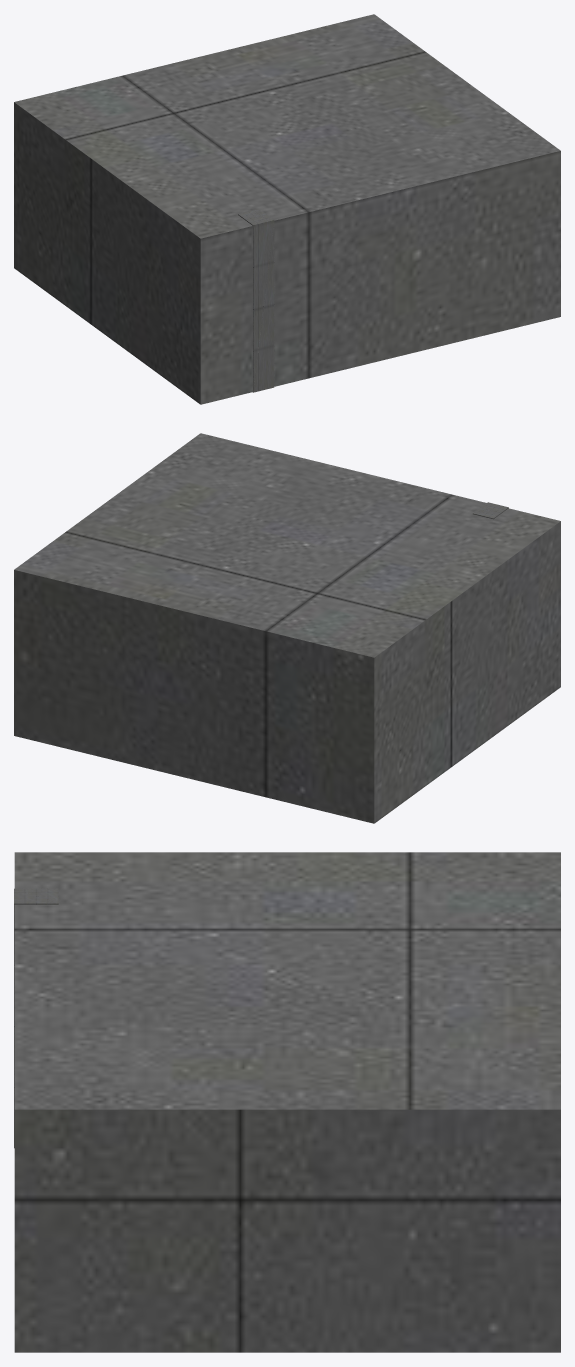
Rendered from OuterBox.fbx.
3 views of the same model, one above another, from view 1: azimuth 30°, elevation 25°; view 2: azimuth 150°, elevation 25°; view 3: azimuth 270°, elevation 25° (orthographic). The views are drawn at different scales.
Parts seen in each view (by area): view 1: OuterBox; view 2: OuterBox; view 3: OuterBox.
Part boxes in pixels (<box>): OuterBox: <box>14,14,560,404</box>; OuterBox: <box>14,433,560,823</box>; OuterBox: <box>14,852,560,1352</box>.
Bounding box in the file's own units: 4172 × 1851 × 3749.
